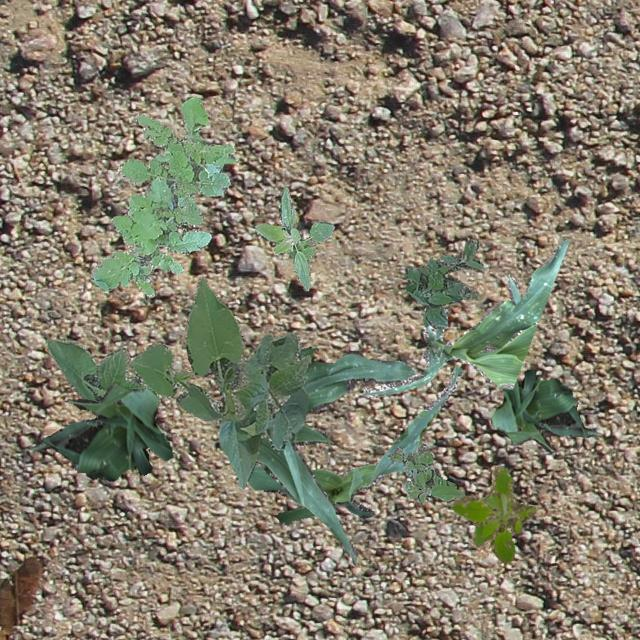crop: (130, 276, 310, 486), (246, 363, 462, 524), (256, 346, 414, 566), (362, 238, 568, 396), (28, 382, 172, 481), (490, 368, 600, 451), (44, 338, 160, 402)
weed: (90, 96, 236, 296), (450, 464, 536, 562), (254, 186, 334, 290), (404, 238, 482, 328), (388, 442, 463, 503)
